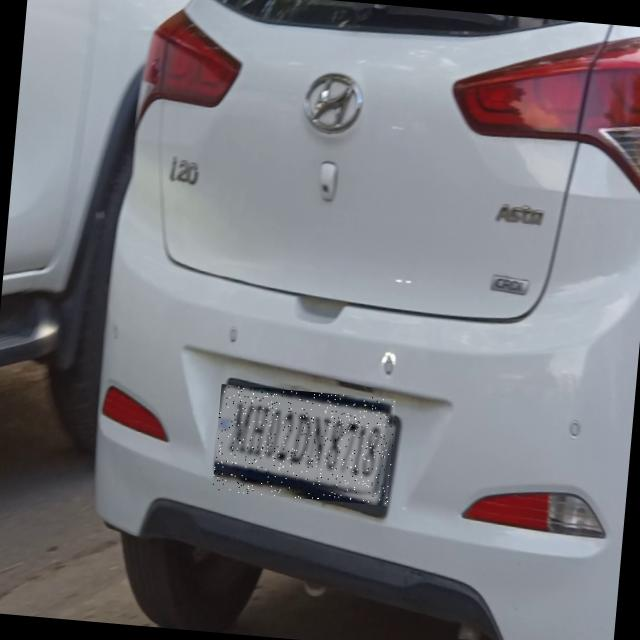Plate: (213, 385, 398, 507)
